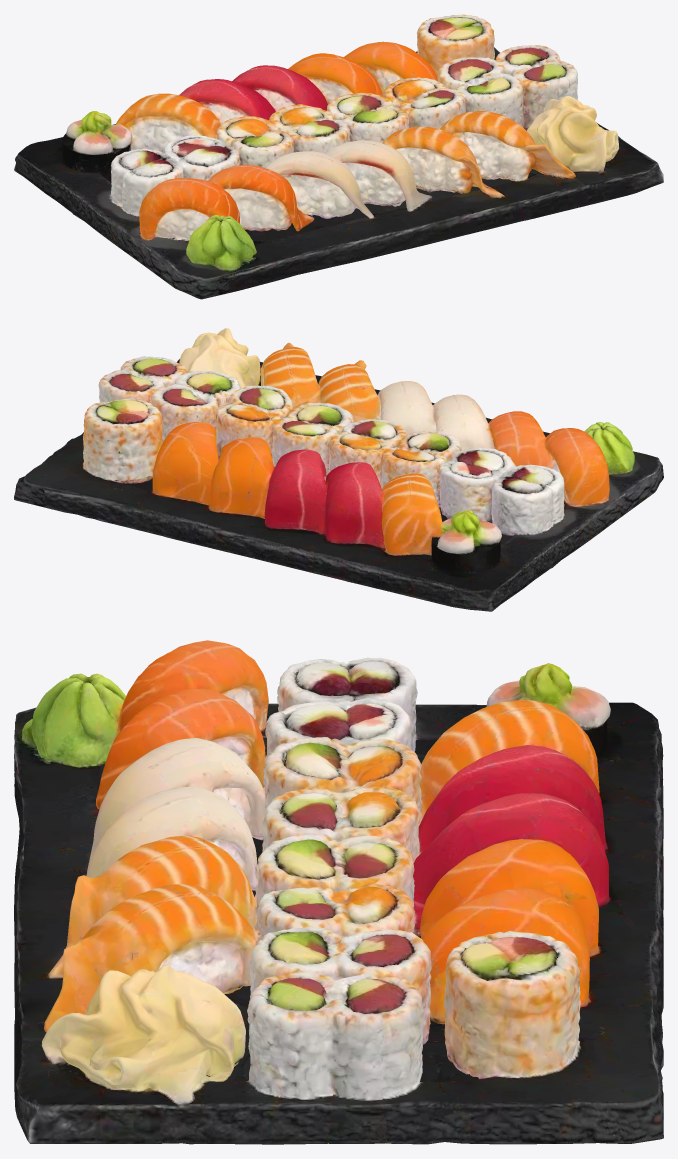
Rendered from sushi-mobile-q.glb.
The picture shows the model from 3 angles, top to bottom: view 1: azimuth 30°, elevation 25°; view 2: azimuth 150°, elevation 25°; view 3: azimuth 270°, elevation 25°; orthographic projection. The views are drawn at different scales.
Visible parts, largest first — view 1: Mesh_0.001; view 2: Mesh_0.001; view 3: Mesh_0.001.
Part boxes in pixels (x1,y1,x2,y2): Mesh_0.001: [14, 14, 663, 299]; Mesh_0.001: [14, 328, 663, 611]; Mesh_0.001: [14, 640, 663, 1144].
Bounding box in the file's own units: 0.1994 × 0.03 × 0.1338.
Materials: 1 (1 with a texture image).
